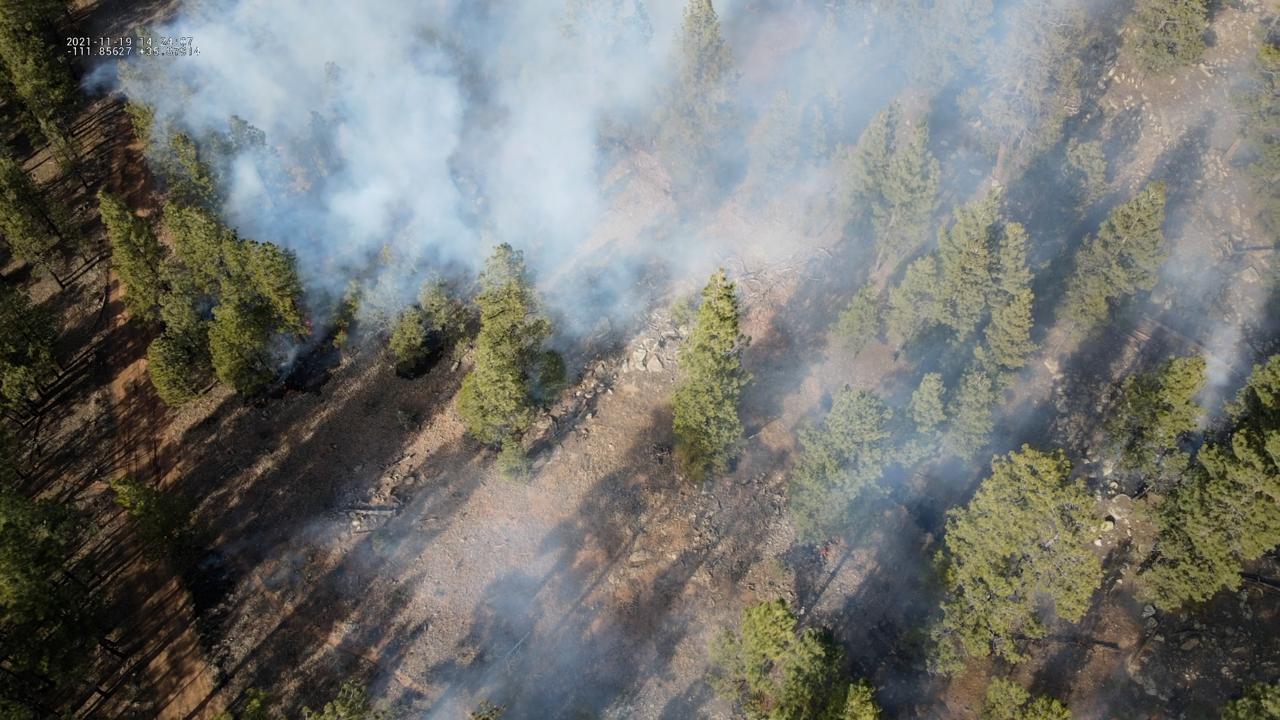fire: (303, 320, 313, 338), (820, 547, 829, 559)
smoke: (72, 0, 1280, 720), (198, 510, 350, 573)
